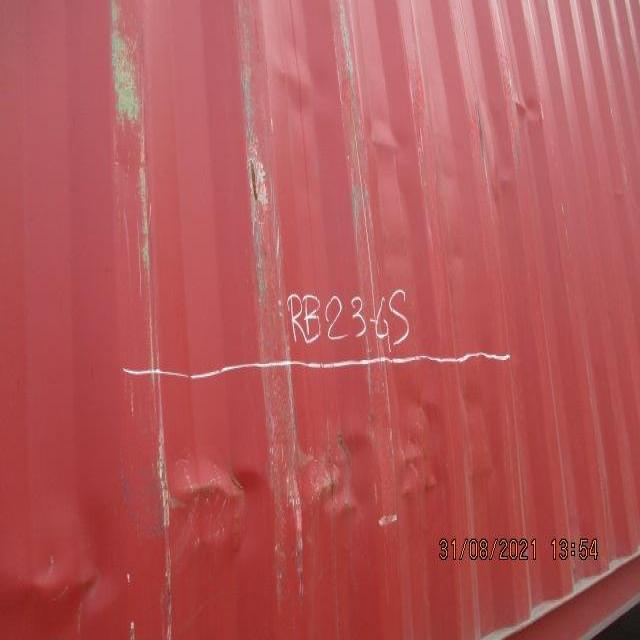Dent: (2, 368, 513, 636)
Minor-Dent: (261, 30, 566, 214)
